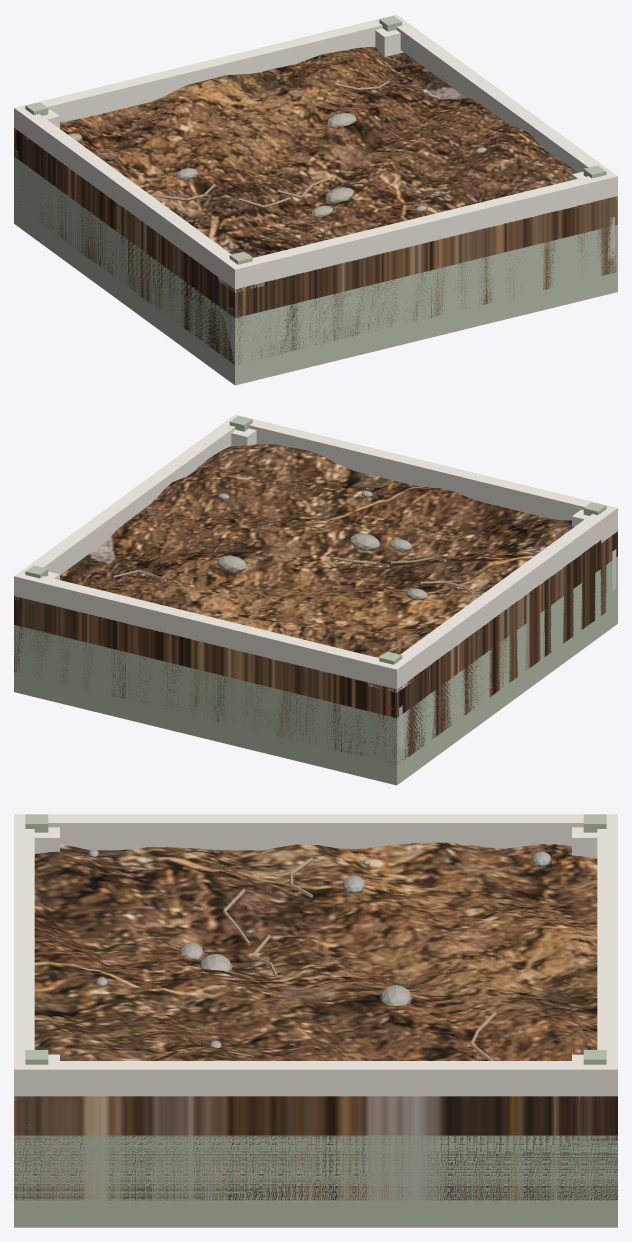
File: s03-untreated-quarter-nw.glb
The picture shows the model from 3 angles, top to bottom: view 1: azimuth 30°, elevation 25°; view 2: azimuth 150°, elevation 25°; view 3: azimuth 270°, elevation 25°; orthographic projection. The views are drawn at different scales.
Parts seen in each view (by area): view 1: S03_Physical_Untreated_Soil_Top_RealRelief, S03_Frame_Sage_Solid_Bottom, S03_Cream_Rim_N, S03_Cream_Rim_S, S03_Cream_Rim_W, S03_Cream_Rim_E, S03_Cream_Protective_Corner_1_0; view 2: S03_Physical_Untreated_Soil_Top_RealRelief, S03_Frame_Sage_Solid_Bottom, S03_Cream_Rim_S, S03_Cream_Rim_N, S03_Cream_Rim_W, S03_Cream_Rim_E, S03_Cream_Protective_Corner_0_1; view 3: S03_Physical_Untreated_Soil_Top_RealRelief, S03_Frame_Sage_Solid_Bottom, S03_Cream_Rim_E, S03_Cream_Rim_W, S03_Cream_Rim_S, S03_Cream_Rim_N, S03_Cream_Protective_Corner_0_0, S03_Cream_Protective_Corner_0_1.
Boxes of the visible parts, box(x1,y1,x2,y2) form: S03_Physical_Untreated_Soil_Top_RealRelief: box(14, 47, 617, 364); S03_Frame_Sage_Solid_Bottom: box(14, 156, 617, 385); S03_Cream_Rim_N: box(227, 173, 617, 289); S03_Cream_Rim_S: box(14, 14, 403, 132); S03_Cream_Rim_W: box(14, 105, 247, 288); S03_Cream_Rim_E: box(384, 15, 617, 198); S03_Cream_Protective_Corner_1_0: box(375, 28, 403, 56); S03_Physical_Untreated_Soil_Top_RealRelief: box(14, 444, 617, 764); S03_Frame_Sage_Solid_Bottom: box(14, 556, 617, 785); S03_Cream_Rim_S: box(14, 574, 404, 689); S03_Cream_Rim_N: box(228, 414, 617, 527); S03_Cream_Rim_W: box(384, 505, 617, 688); S03_Cream_Rim_E: box(14, 415, 245, 598); S03_Cream_Protective_Corner_0_1: box(572, 509, 617, 542); S03_Physical_Untreated_Soil_Top_RealRelief: box(14, 842, 617, 1200); S03_Frame_Sage_Solid_Bottom: box(14, 1135, 617, 1227); S03_Cream_Rim_E: box(14, 1061, 617, 1096); S03_Cream_Rim_W: box(14, 814, 617, 850); S03_Cream_Rim_S: box(597, 814, 617, 1096); S03_Cream_Rim_N: box(14, 814, 34, 1096); S03_Cream_Protective_Corner_0_0: box(572, 827, 597, 858); S03_Cream_Protective_Corner_0_1: box(34, 827, 59, 853).
Size of the model in its own units: 0.5 by 0.149 by 0.5.
Materials: 8 (1 with a texture image).
